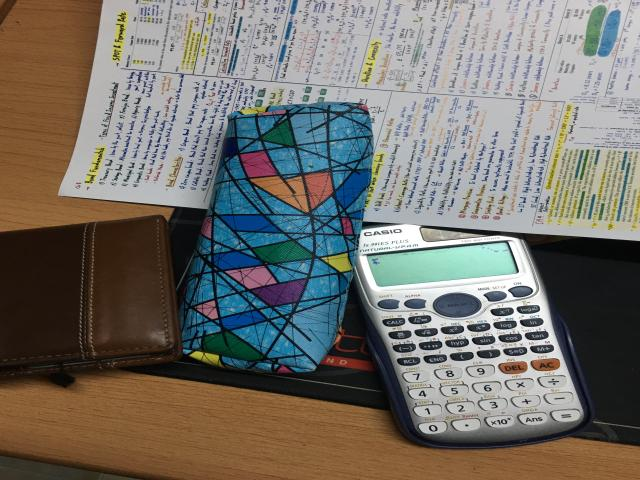Wallet: (0, 215, 182, 386)
paper: (60, 0, 638, 240)
